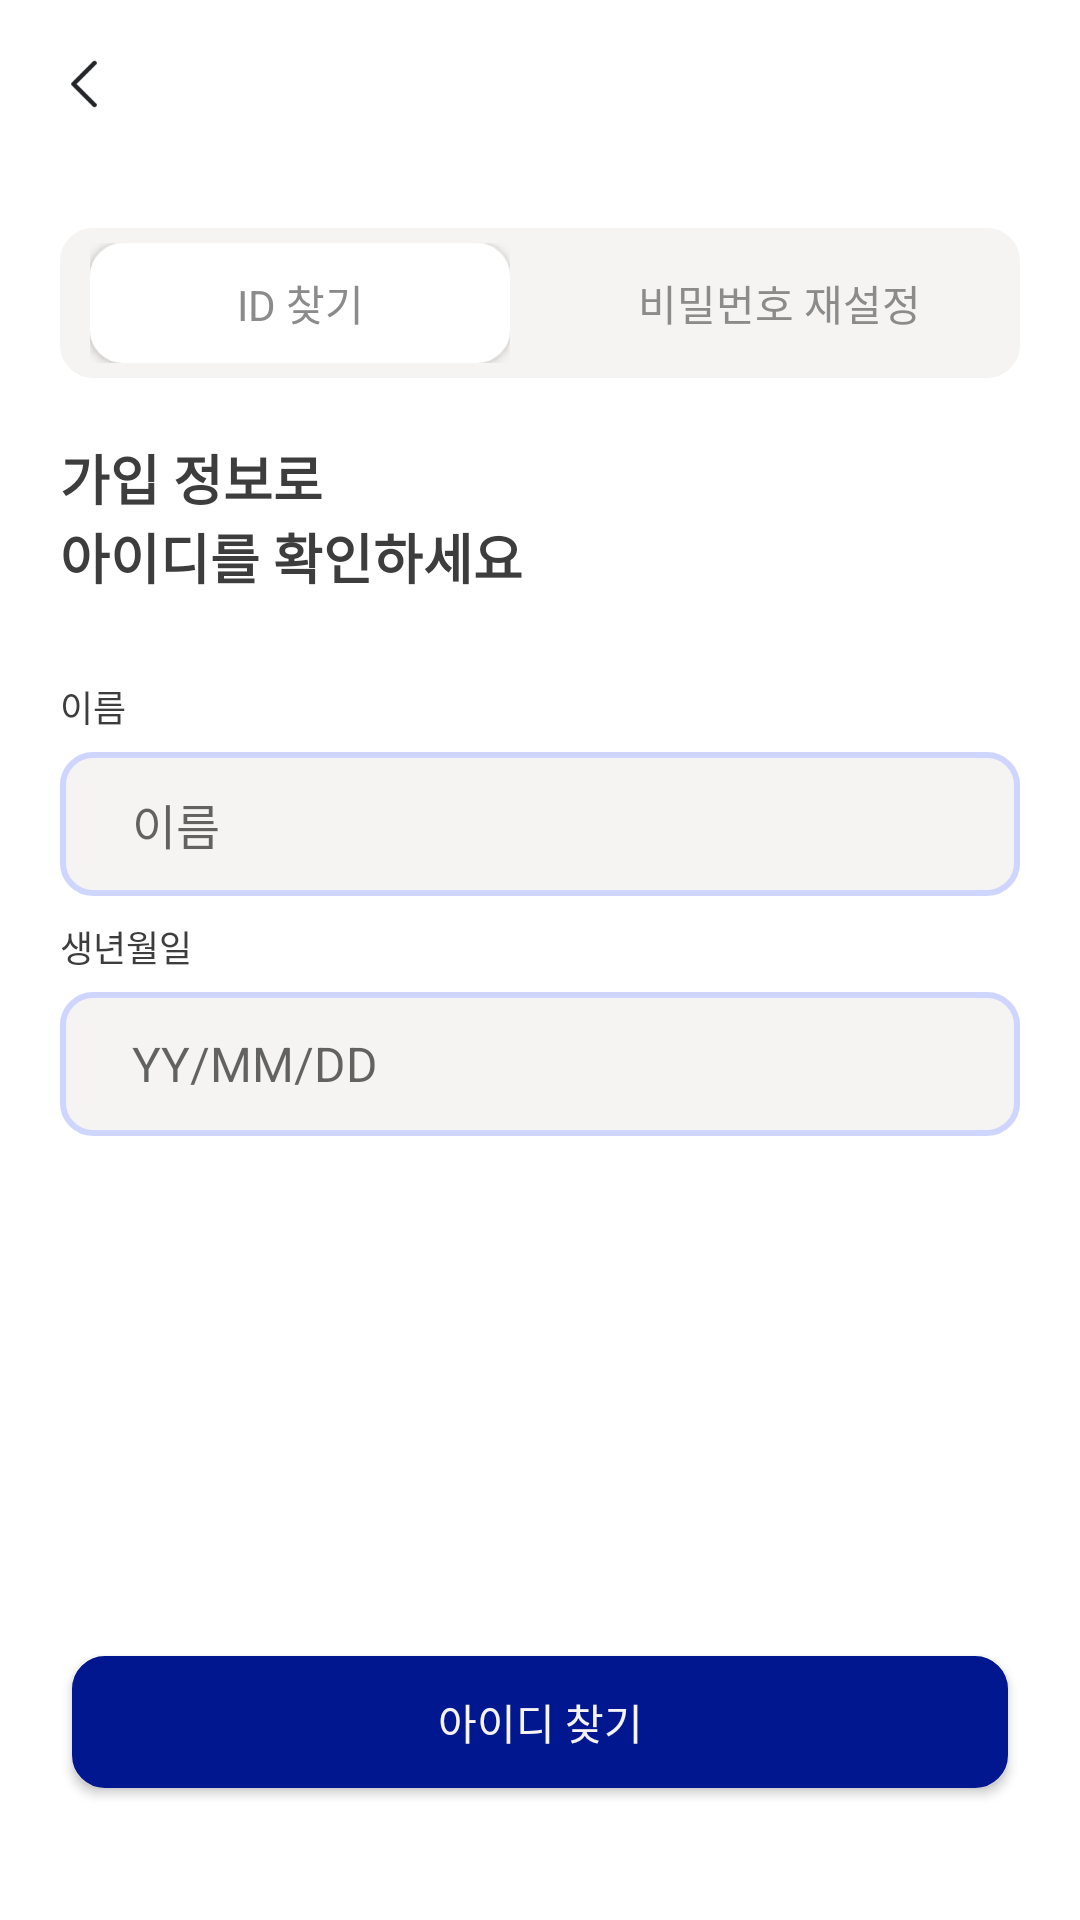

Where to tap for icons on this 1080 × 1920 app screen, as [x,y]:
arrow: [84,84]
